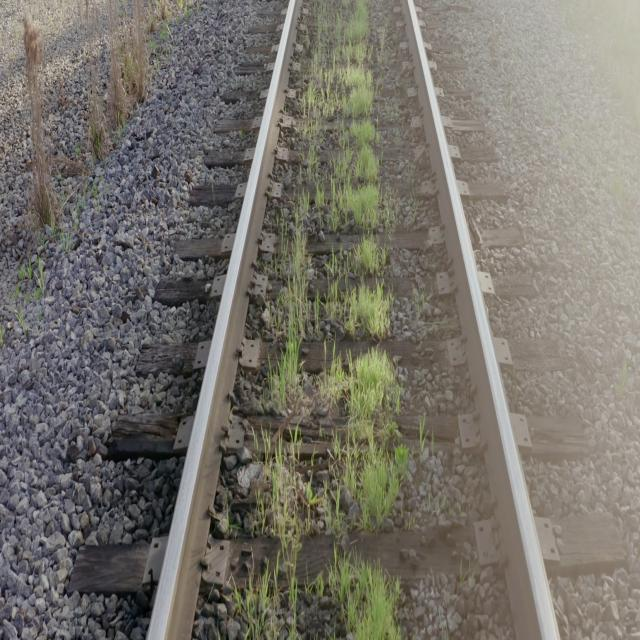Plant: (265, 0, 394, 411), (302, 344, 409, 533), (265, 442, 301, 636), (329, 551, 401, 640), (330, 551, 400, 638), (239, 569, 280, 638)
